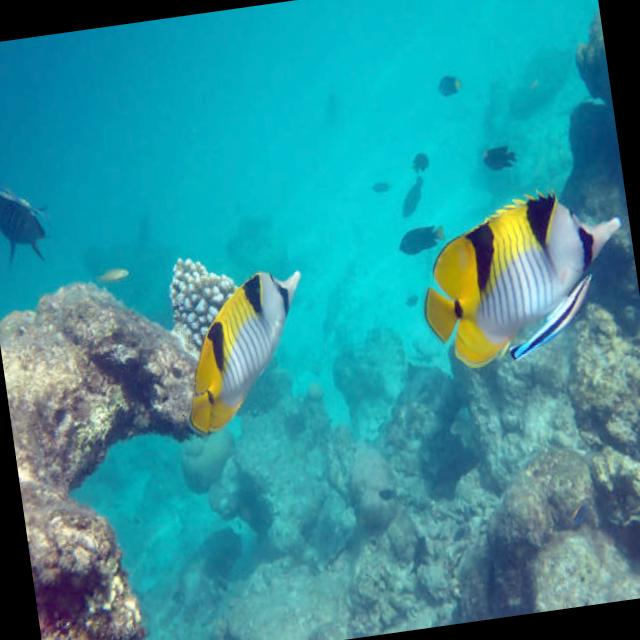ButterflyFish: (412, 188, 638, 378), (170, 268, 322, 431)
